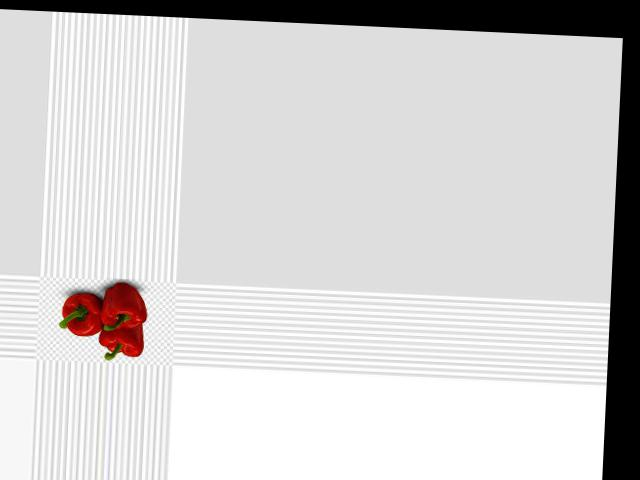bell_pepper: (55, 287, 109, 342)
